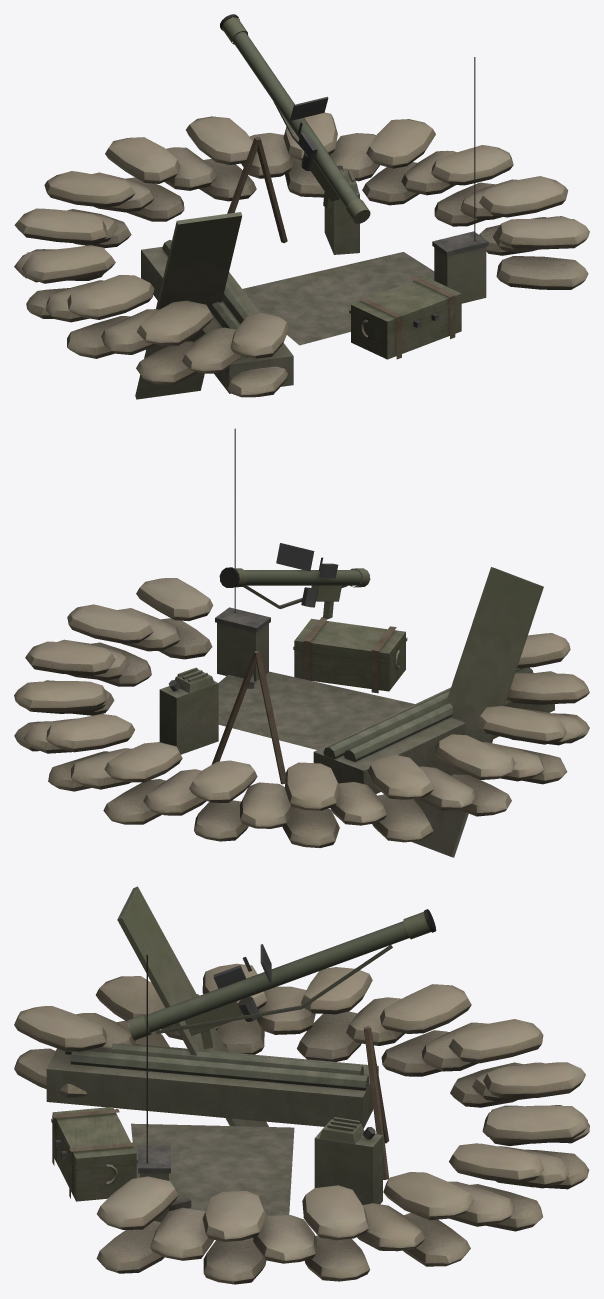
Rendered from manpads_team.glb.
3 renders of one model, top to bottom at view 1: azimuth 30°, elevation 25°; view 2: azimuth 150°, elevation 25°; view 3: azimuth 270°, elevation 25°, orthographic. The views are drawn at different scales.
Visible parts, largest first — view 1: post, launcher; view 2: post, launcher; view 3: post, launcher.
Boxes of the visible parts, <box> form: post: <box>14,57,589,399</box>; launcher: <box>220,14,370,223</box>; post: <box>14,428,589,857</box>; launcher: <box>219,543,370,618</box>; post: <box>14,886,589,1284</box>; launcher: <box>127,909,436,1049</box>.
Size of the model in its own units: 3.57 by 2.18 by 3.17.
Materials: 1 (1 with a texture image).
